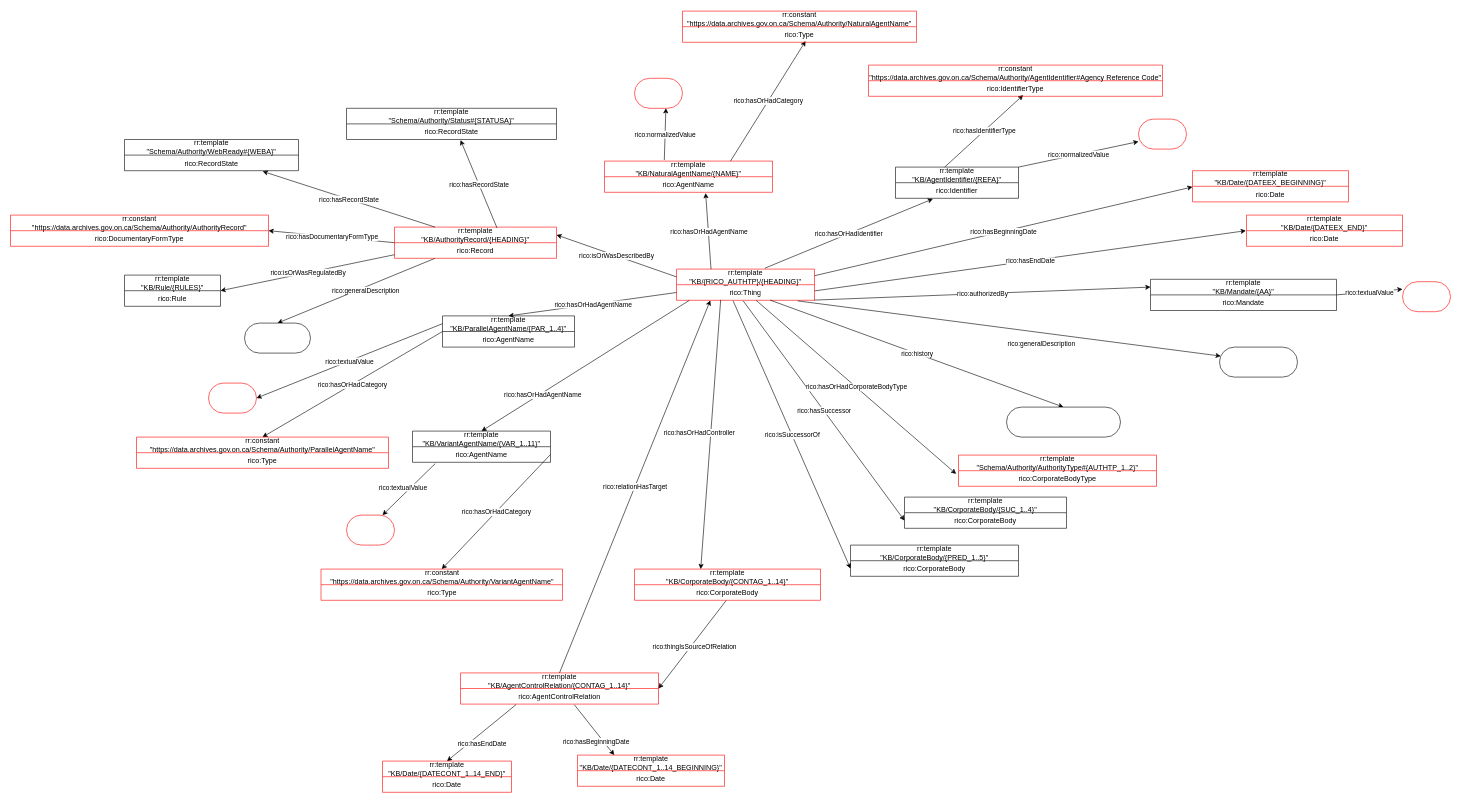
The diagram is 1461 pixels wide and 805 high, and some of its shapes have lost their labels. Each missing label, with the centre of its shape:
rml:reference " ADM ": (x=1063, y=421)
rml:reference " FUN ": (x=1258, y=361)
rml:reference " SOURCE ": (x=277, y=337)
rml:reference "AA": (x=1426, y=296)
rml:reference "NAME": (x=658, y=93)
rml:reference "PAR_1..4": (x=232, y=397)
rml:reference "REFA": (x=1162, y=133)
rml:reference "VAR_1..11": (x=370, y=529)
